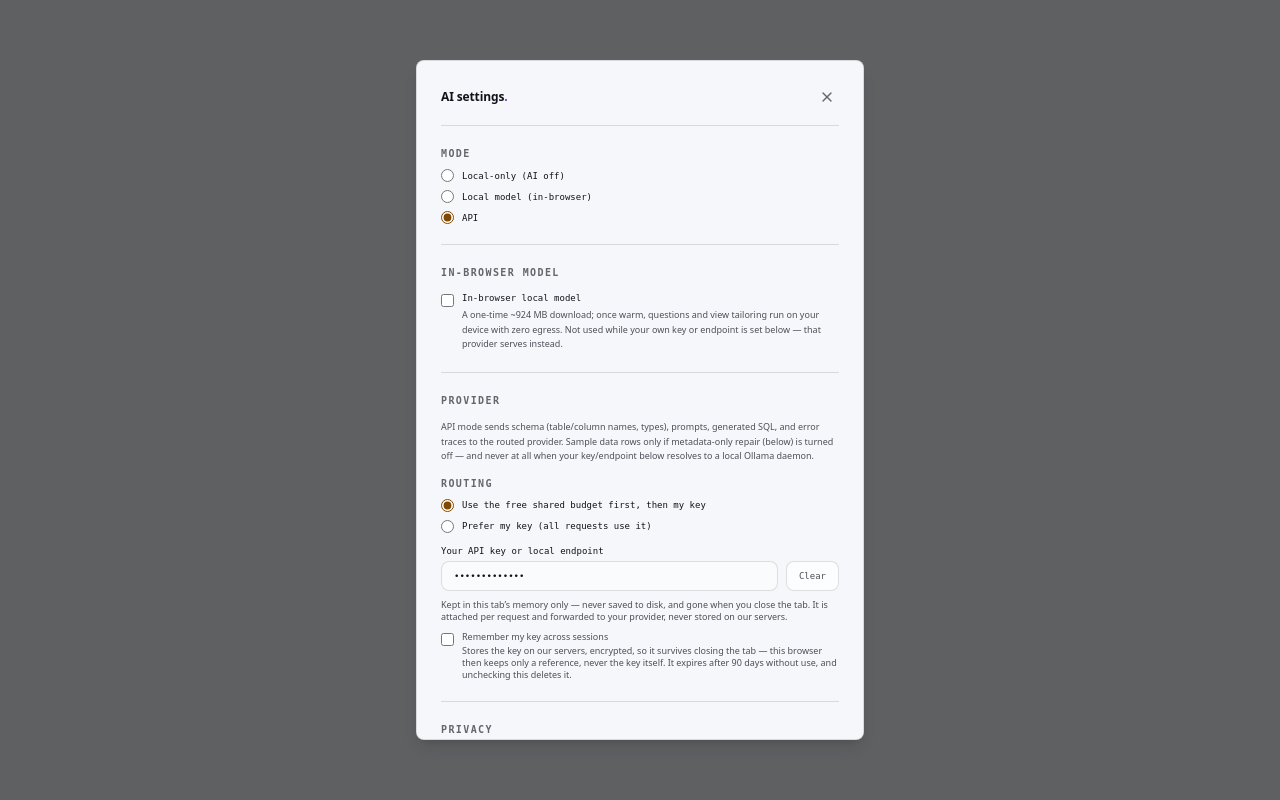
Scenario: AISettingsPanel — "Remember my key" (D9 opt-in vault, 09-edge/03) › a paused vault store attempt reports the pause signal (W7 status bar)
This screenshot has width=1280, height=800.
Click the checkbox labelled "Remember my key across sessions" at (448, 639), box [441,633,454,646]
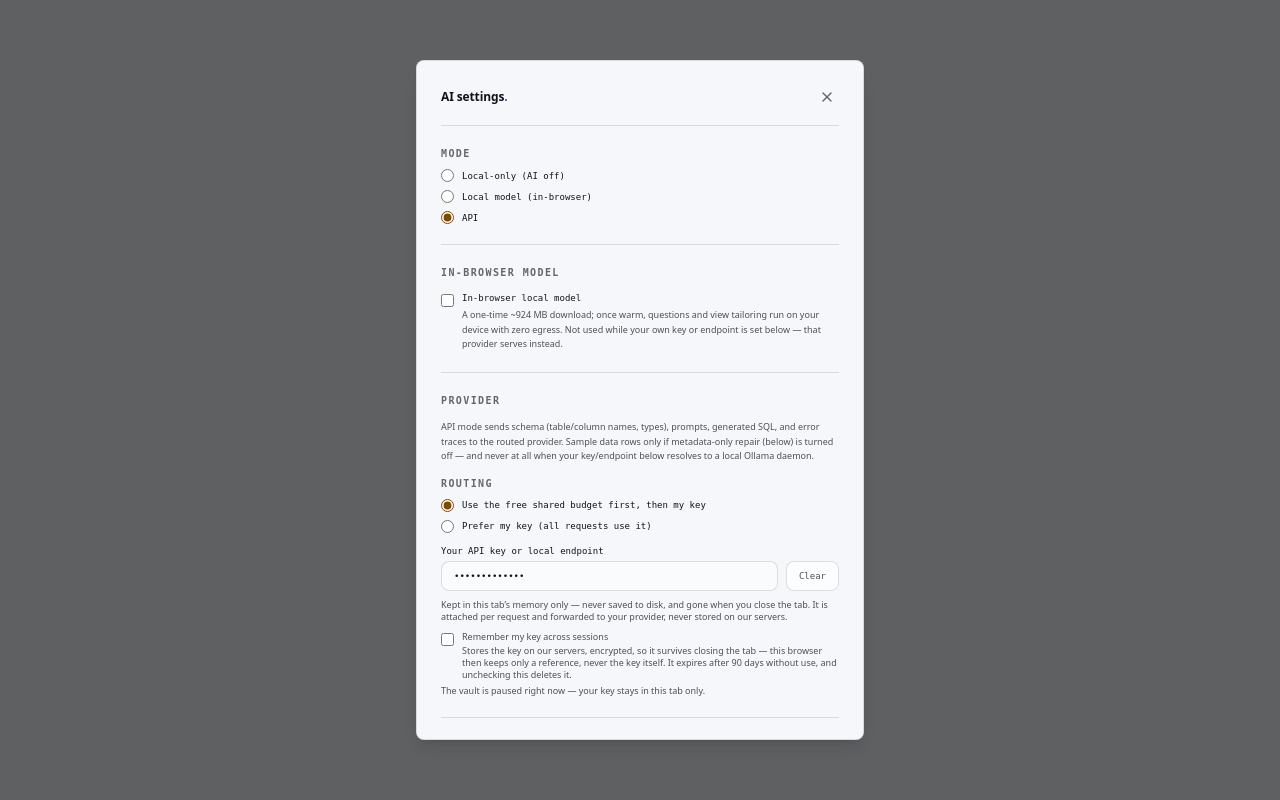
Check: the text "The vault is paused right now — your key stays in this tab only." is shown, box [441,684,705,697]
